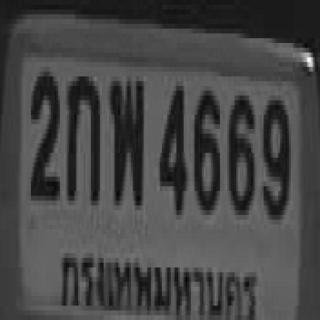A01: (65, 72, 98, 200)
A30: (109, 76, 142, 201)
N02: (29, 67, 58, 196)
N04: (158, 81, 185, 210)
N06: (193, 86, 218, 210), (227, 91, 253, 210)
N09: (262, 96, 287, 215)
P04: (58, 244, 260, 320)
